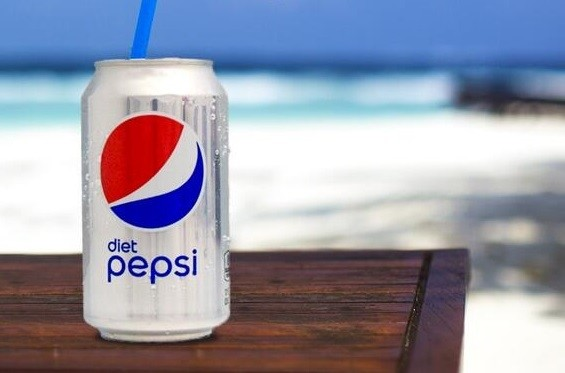pepsi: (100, 111, 204, 227), (102, 111, 204, 227)
